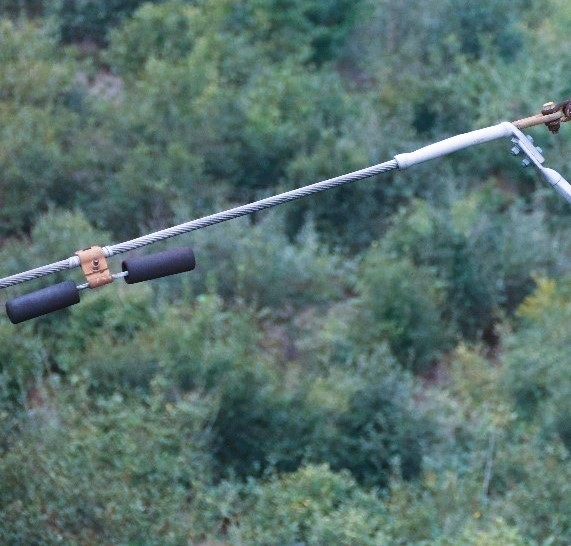Shockproof hammer: (1, 229, 202, 329)
